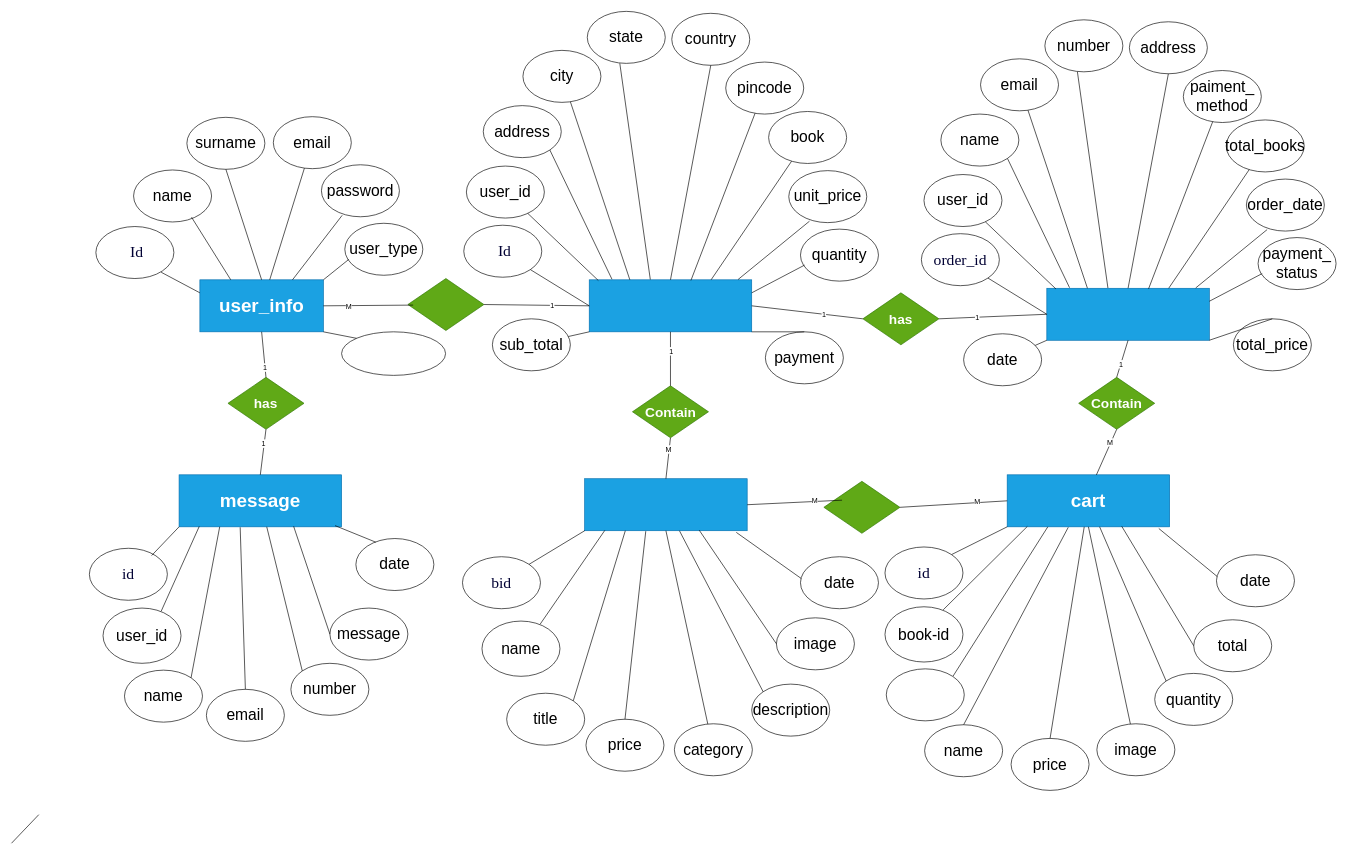
This 1347x855 diagram has some shape labels left out. The shapes that lost their labels are listed below. From the top down, each one's centre as x and y in pixels, then its label:
At [445,304]: "Makes".
At [670,305]: "Orders".
At [1127,314]: "confirm_orders".
At [393,353]: "User_Branch".
At [665,504]: "book_info".
At [861,507]: "added to".
At [925,694]: "user-id".
